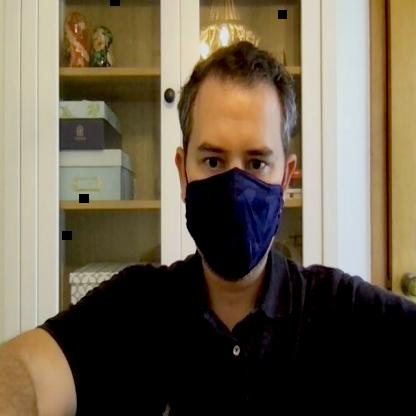mask: (174, 40, 294, 278)
